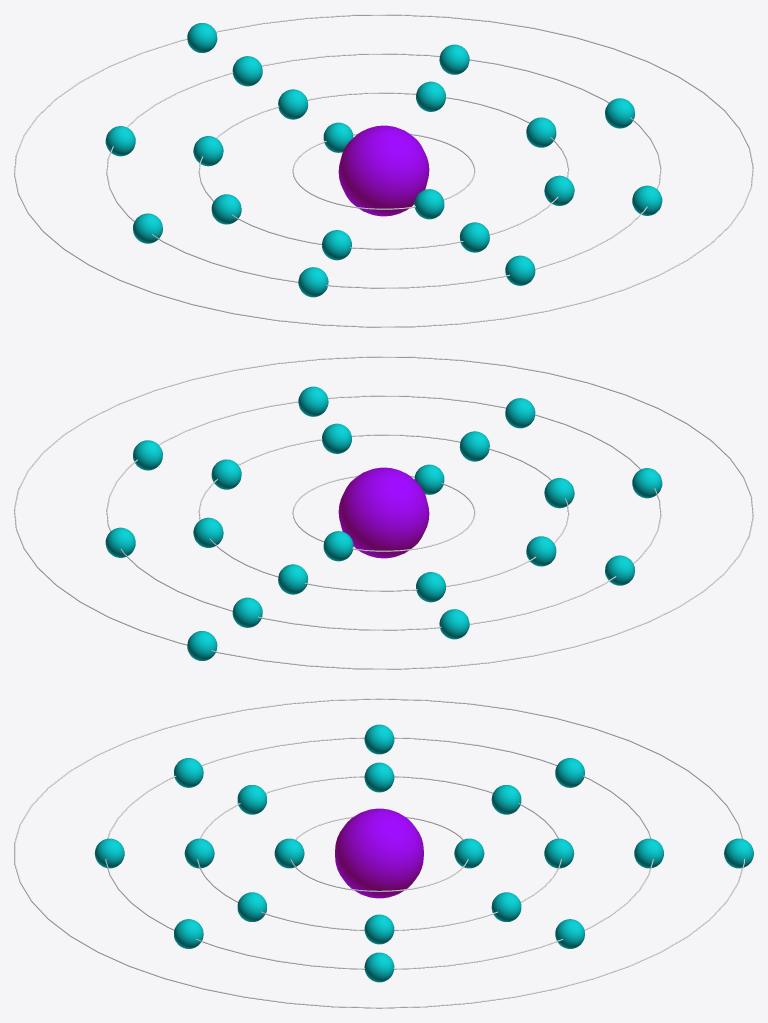
Rendered from Group 1 - Potassium K.glb.
3 views of the same model, one above another, from view 1: azimuth 30°, elevation 25°; view 2: azimuth 150°, elevation 25°; view 3: azimuth 270°, elevation 25° (orthographic).
Visible parts, largest first — view 1: Nucleus, ring4, ring3, ring2, Electron6, Electron18, Electron9, Electron12, Electron1, Electron3, Electron7, Electron8 (+12 smaller); view 2: Nucleus, ring4, ring3, ring2, Electron18, Electron6, Electron4, Electron2, Electron5, Electron7, Electron8, Electron11 (+12 smaller); view 3: Nucleus, ring4, ring3, ring2, Electron17, Electron8, Electron4, Electron7, Electron11, Electron5, Electron16, Electron13 (+12 smaller).
Boxes of the visible parts, x1,y1,x2,y2 form: Nucleus: [338, 125, 429, 216]; ring4: [14, 14, 753, 327]; ring3: [106, 53, 661, 288]; ring2: [198, 92, 569, 249]; Electron6: [232, 56, 262, 86]; Electron18: [505, 255, 535, 285]; Electron9: [414, 189, 444, 219]; Electron12: [439, 44, 469, 74]; Electron1: [416, 81, 445, 111]; Electron3: [322, 230, 351, 260]; Electron7: [526, 117, 556, 147]; Electron8: [211, 194, 241, 224]; Nucleus: [338, 467, 429, 558]; ring4: [14, 356, 753, 669]; ring3: [106, 395, 661, 630]; ring2: [198, 434, 569, 591]; Electron18: [505, 398, 535, 428]; Electron6: [232, 597, 262, 627]; Electron4: [323, 531, 353, 561]; Electron2: [322, 423, 351, 453]; Electron5: [416, 572, 445, 602]; Electron7: [211, 459, 241, 489]; Electron8: [526, 536, 556, 566]; Electron11: [459, 431, 489, 461]; Nucleus: [335, 808, 423, 898]; ring4: [14, 698, 744, 1008]; ring3: [105, 737, 653, 969]; ring2: [197, 776, 561, 930]; Electron17: [364, 724, 394, 754]; Electron8: [364, 762, 394, 792]; Electron4: [454, 838, 484, 868]; Electron7: [364, 914, 394, 944]; Electron11: [184, 838, 214, 868]; Electron5: [491, 785, 521, 814]; Electron16: [364, 952, 394, 982]; Electron13: [174, 758, 203, 787].
Size of the model in its own units: 0.2444 by 0.03 by 0.247.
